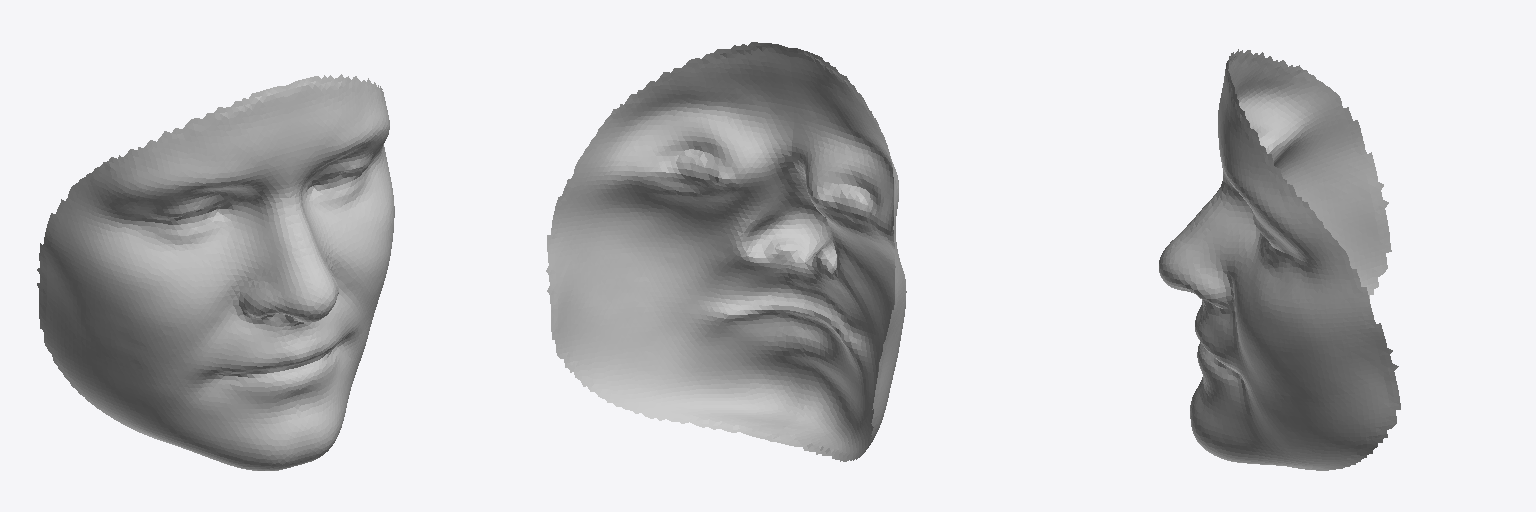
Rendered from SIMPOP_30.obj.
3 views of the same model, side by side, from view 1: azimuth 30°, elevation 25°; view 2: azimuth 150°, elevation 25°; view 3: azimuth 270°, elevation 25° (orthographic).
Visible parts, largest first — view 1: SIMPOP_30; view 2: SIMPOP_30; view 3: SIMPOP_30.
Part boxes in pixels (left/top/right/bottom): SIMPOP_30: left=37, top=74, right=394, bottom=470; SIMPOP_30: left=546, top=42, right=906, bottom=461; SIMPOP_30: left=1159, top=49, right=1400, bottom=470.
Size of the model in its own units: 127 by 135 by 78.22.